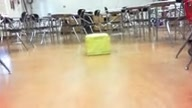cube: (85, 33, 110, 56)
